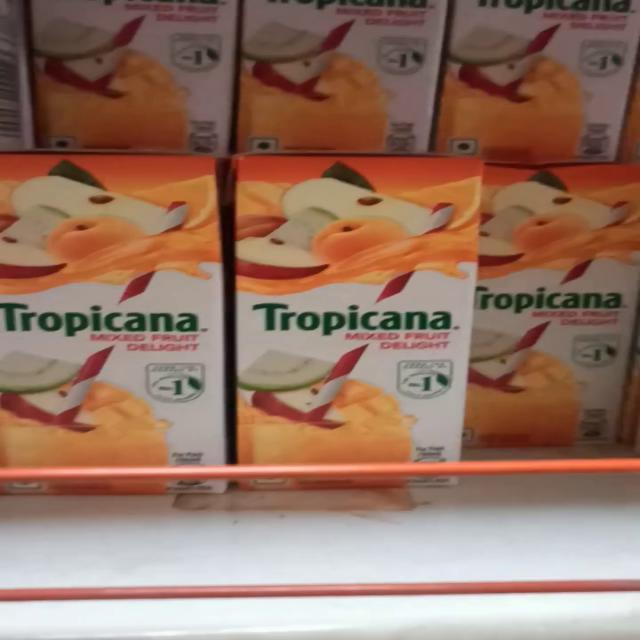Tropicana: (234, 153, 476, 484), (0, 150, 234, 488)
